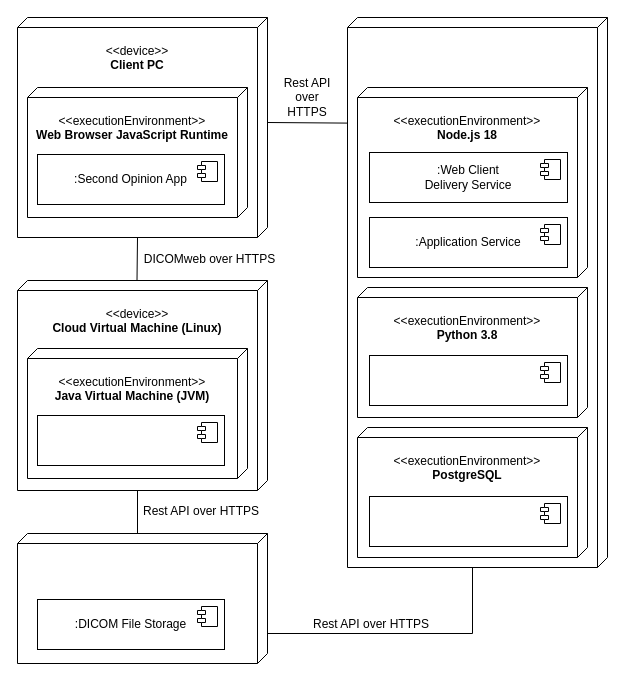
This 625x681 diagram has some shape labels left out. Here are the shapes that lost their labels. From the top down, the box of each, then its label:
(346, 16, 608, 568): <<device>> Second Opinion Platform Linux Server
(368, 354, 568, 406): :Conversion Service
(36, 414, 224, 466): :Dicoogle PACS
(368, 496, 568, 546): :Case and User Database
(16, 532, 268, 664): <<device>> Cloud Object Storage
